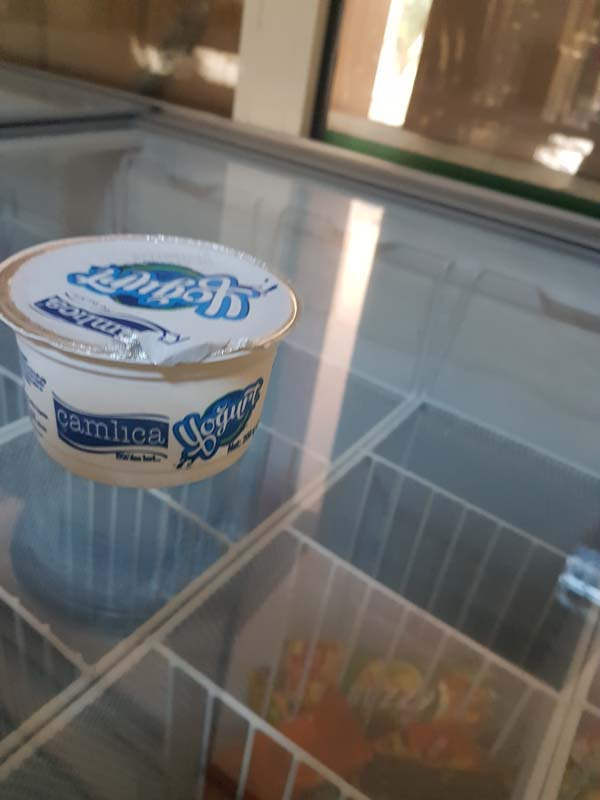camlicayogurt: (1, 214, 308, 490)
